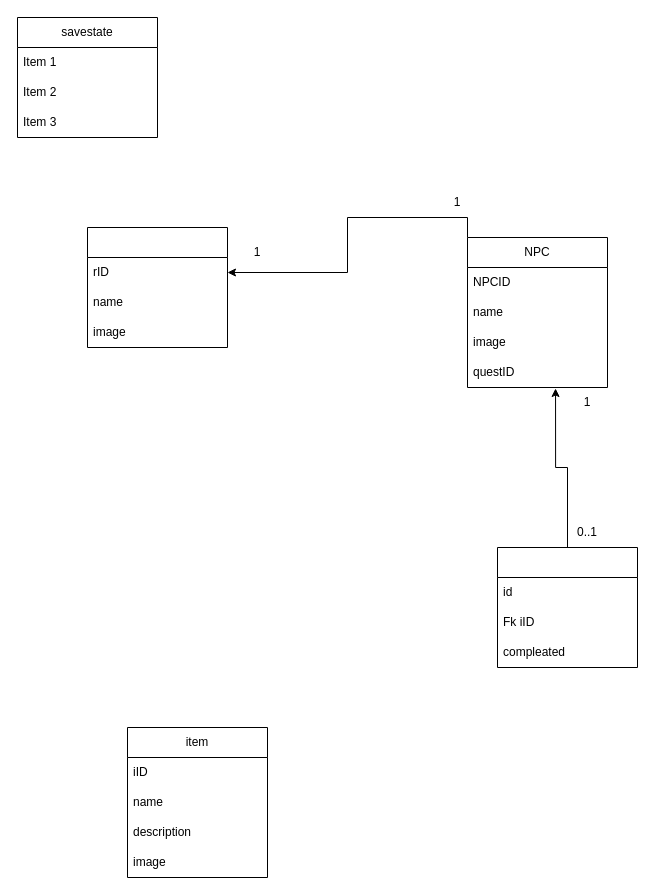
Image size: 655x895. Some labels were removed from this diagram. Here are the shapes that lost their labels. From the top down, the box of each, then its label:
(86, 226, 228, 348): room
(496, 546, 638, 668): quest
